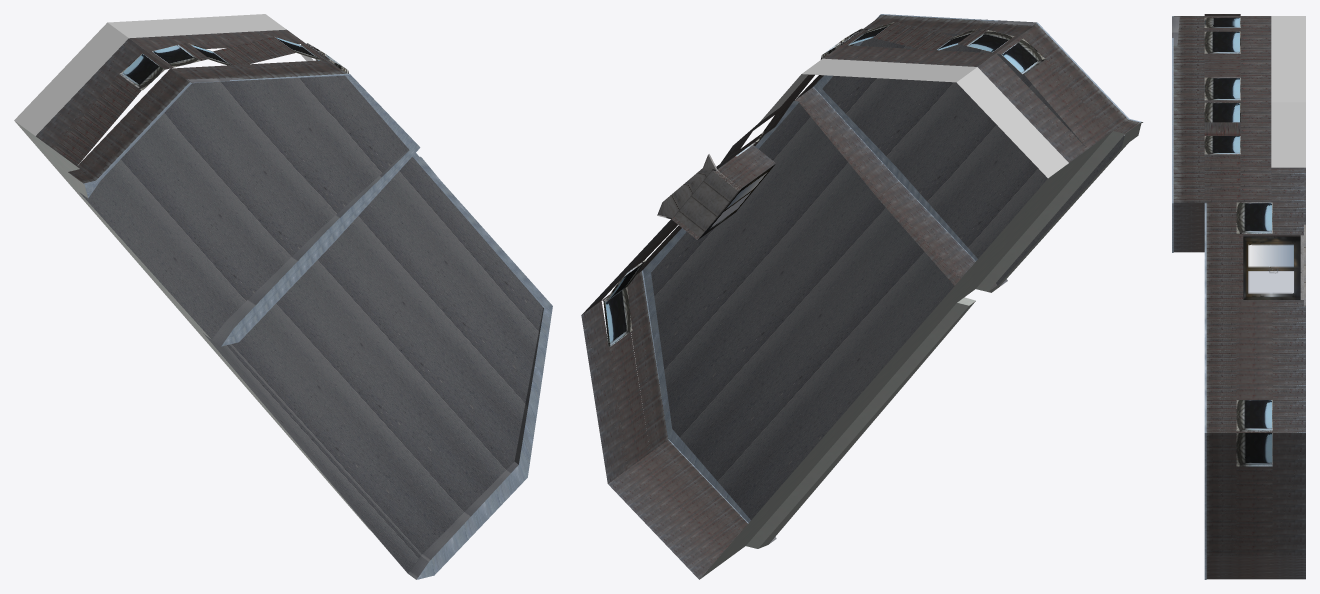
File: rannam2e_tee_5.1-origo.obj
3 renders of one model, left to right at view 1: azimuth 30°, elevation 25°; view 2: azimuth 150°, elevation 25°; view 3: azimuth 270°, elevation 25°, orthographic. The views are drawn at different scales.
Visible parts, largest first — view 1: default; view 2: default; view 3: default.
Part boxes in pixels (x1=…): default: x1=14, y1=14, x2=552, y2=579; default: x1=581, y1=14, x2=1143, y2=579; default: x1=1172, y1=14, x2=1305, y2=579.
Bounding box in the file's own units: 17.06 × 19 × 5.01.
